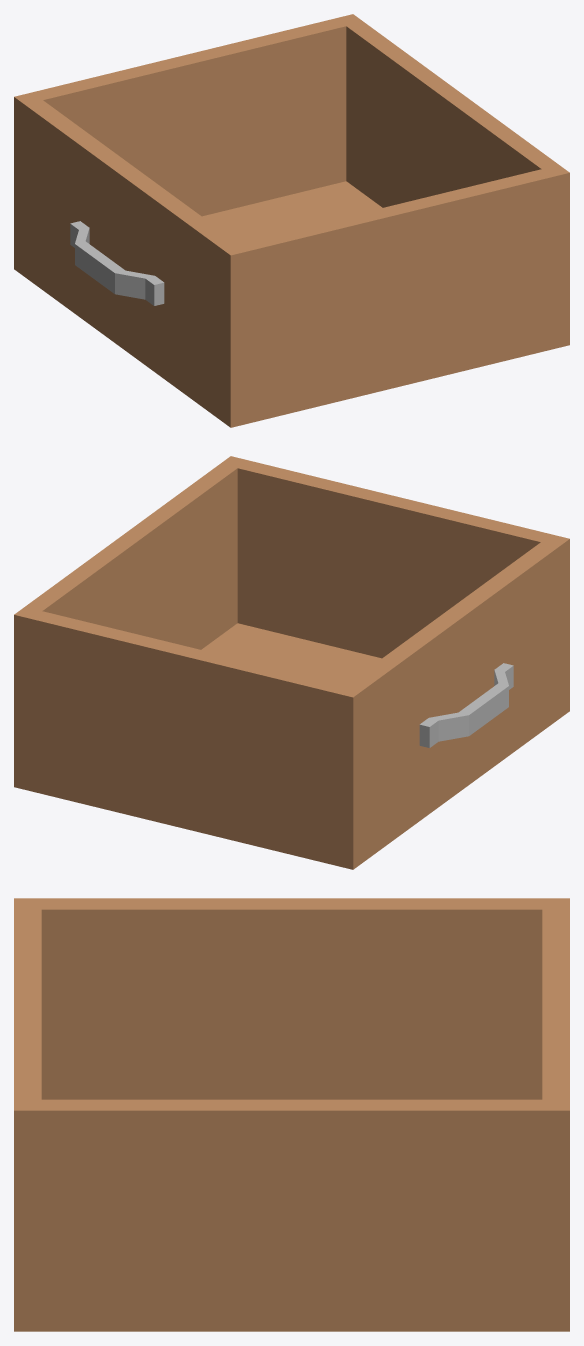
The model's file is FindUnlocked_interactable_L3_drawer_v6.gltf.
3 renders of one model, top to bottom at view 1: azimuth 30°, elevation 25°; view 2: azimuth 150°, elevation 25°; view 3: azimuth 270°, elevation 25°, orthographic. The views are drawn at different scales.
Parts seen in each view (by area): view 1: FU_interactable_Level3_drawer_active; view 2: FU_interactable_Level3_drawer_active; view 3: FU_interactable_Level3_drawer_active.
Boxes of the visible parts, x1,y1,x2,y2 form: FU_interactable_Level3_drawer_active: [14, 14, 569, 427]; FU_interactable_Level3_drawer_active: [14, 456, 569, 869]; FU_interactable_Level3_drawer_active: [14, 898, 569, 1331].
Size of the model in its own units: 1.12 by 0.5014 by 1.14.
